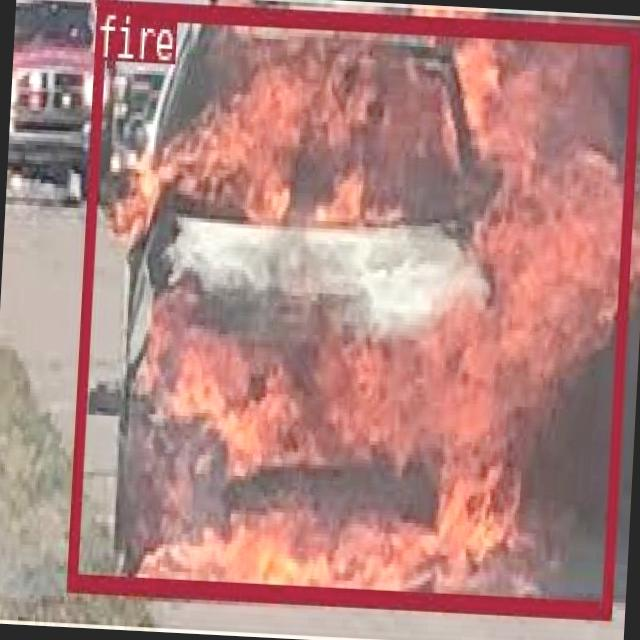fire: (66, 0, 640, 613)
